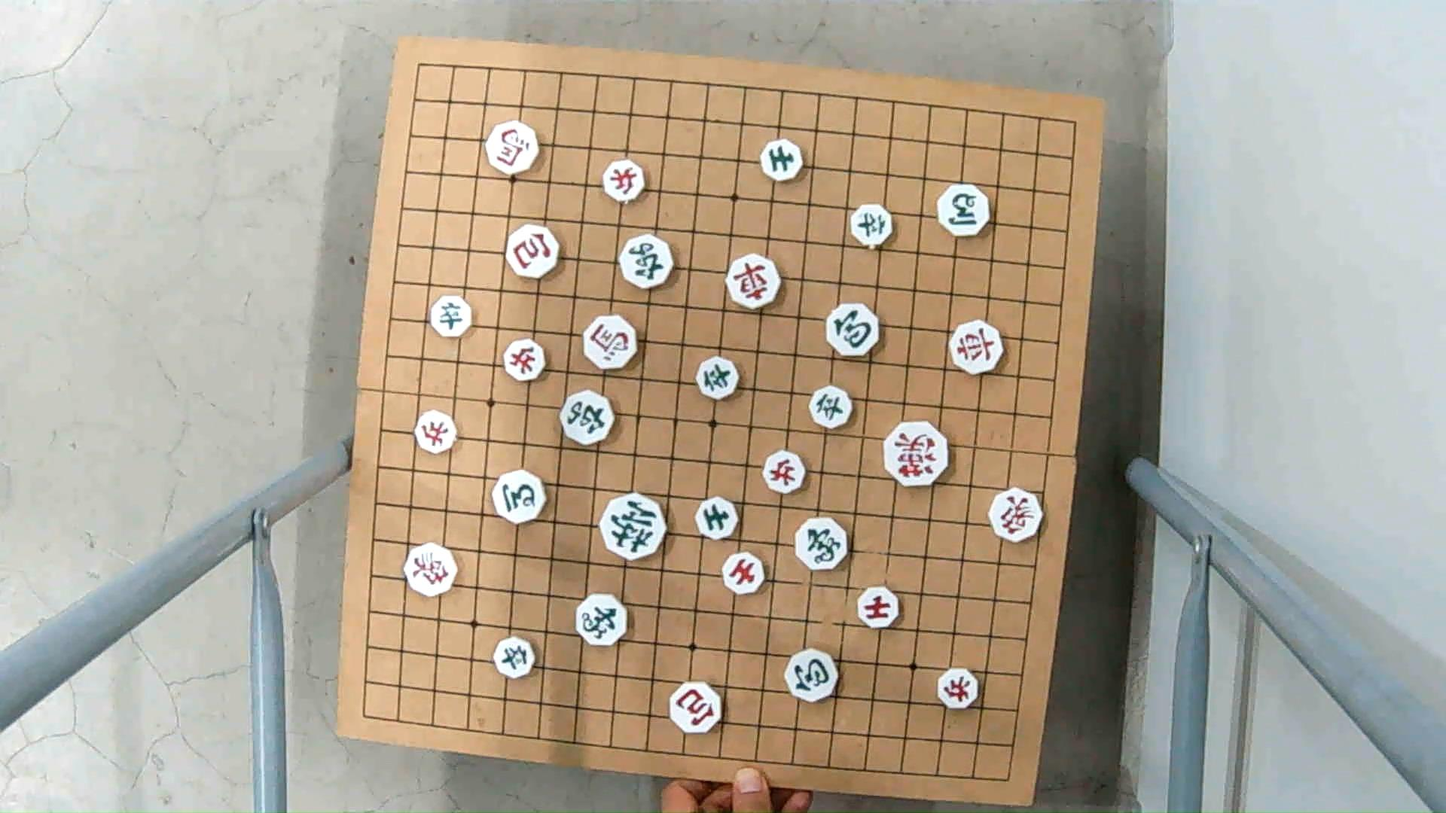cha_green: (560, 391, 618, 446), (618, 239, 676, 285)
cha_red: (949, 321, 1004, 375), (725, 255, 781, 306)
jol_green: (695, 357, 739, 403), (848, 205, 895, 245), (492, 639, 538, 678), (429, 297, 473, 336), (811, 389, 851, 428)
jol_red: (762, 452, 810, 492), (935, 668, 981, 708), (502, 342, 548, 381), (602, 160, 647, 199), (415, 411, 456, 452)
ma_green: (491, 472, 550, 522), (935, 187, 991, 237)
ma_red: (581, 316, 641, 367), (485, 122, 542, 172)
po_green: (825, 306, 882, 358), (783, 650, 839, 700)
po_red: (506, 224, 561, 276), (670, 684, 725, 733)
sa_green: (694, 500, 741, 540), (760, 142, 807, 181)
sa_red: (719, 553, 767, 592), (855, 589, 900, 628)
sang_green: (574, 592, 629, 646), (792, 520, 849, 568)
sang_red: (990, 491, 1044, 540), (404, 547, 458, 594)
wang_green: (601, 497, 670, 555)
wang_red: (885, 420, 948, 486)
